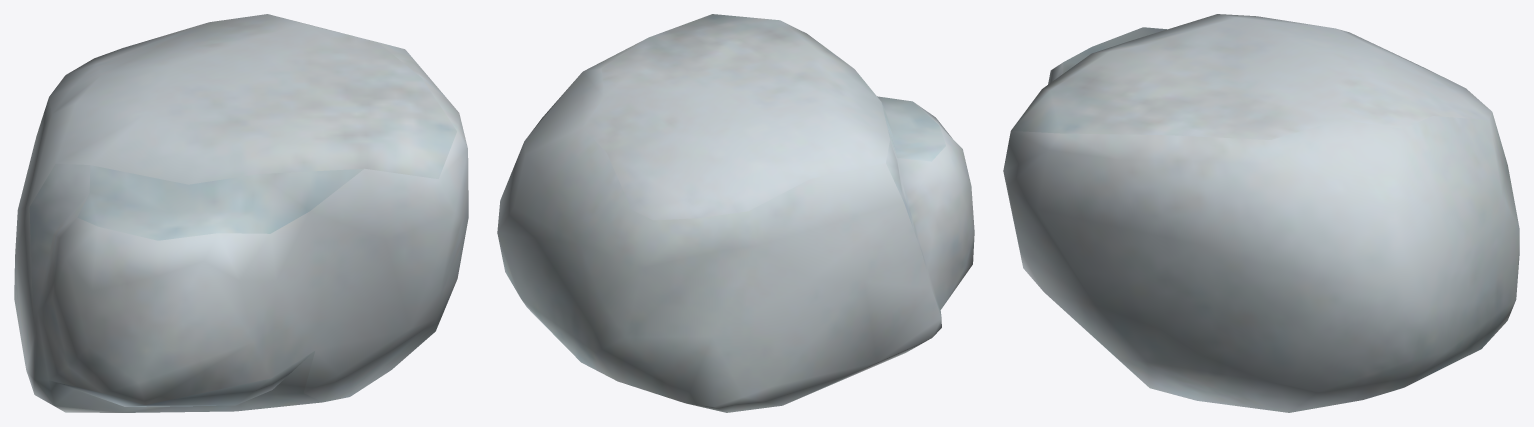
The model's file is P_ShelfClassic4.obj.
3 renders of one model, left to right at view 1: azimuth 30°, elevation 25°; view 2: azimuth 150°, elevation 25°; view 3: azimuth 270°, elevation 25°, orthographic. The views are drawn at different scales.
Bounding box in the file's own units: 14.91 × 9.19 × 15.17.
